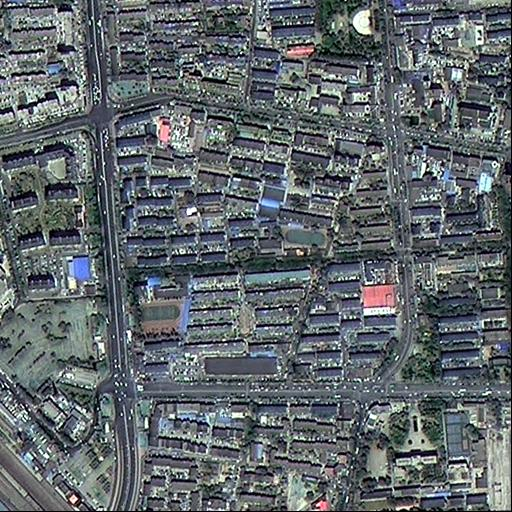school: (128, 272, 191, 337), (257, 215, 329, 256)
